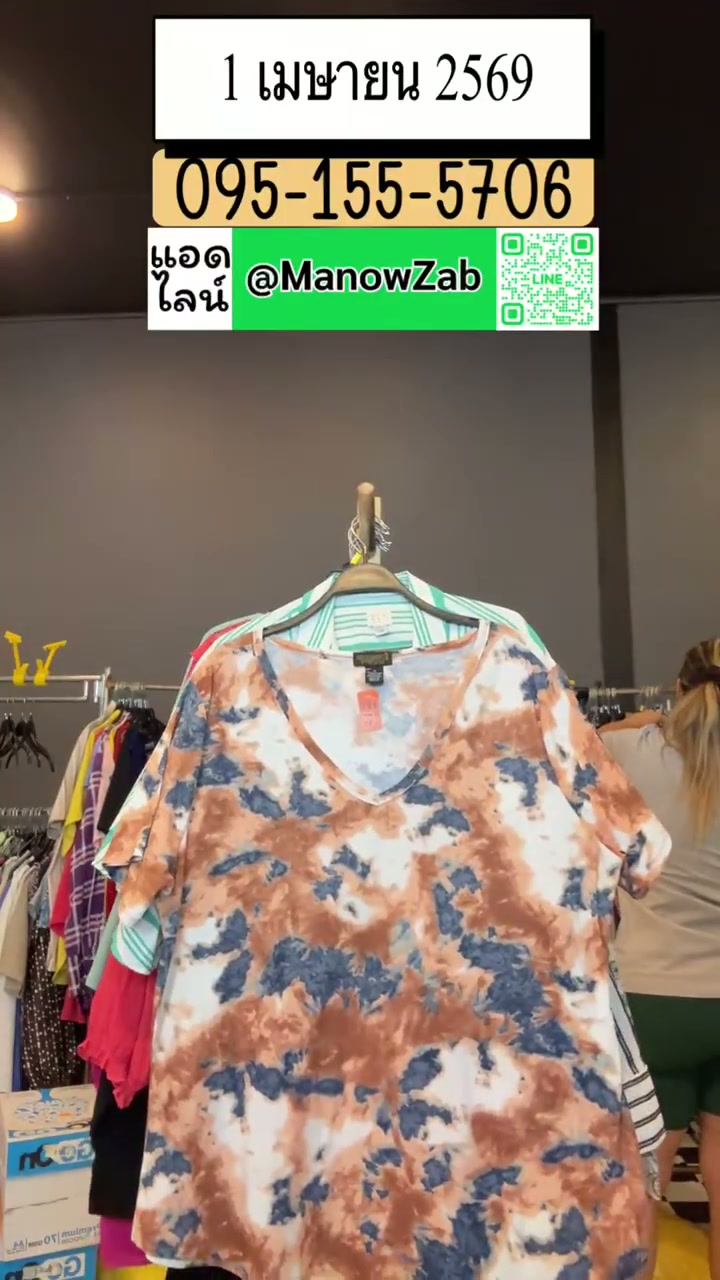display_shirt: (101, 622, 668, 1279)
